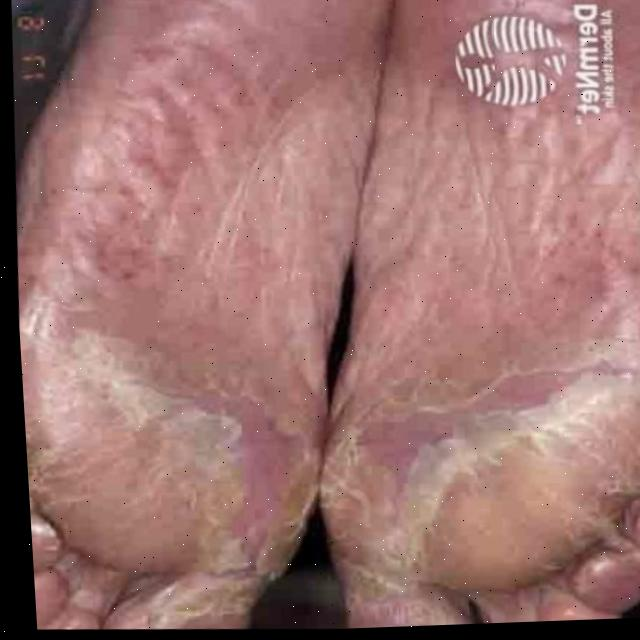Eczema: (48, 328, 318, 610), (336, 335, 585, 598)
